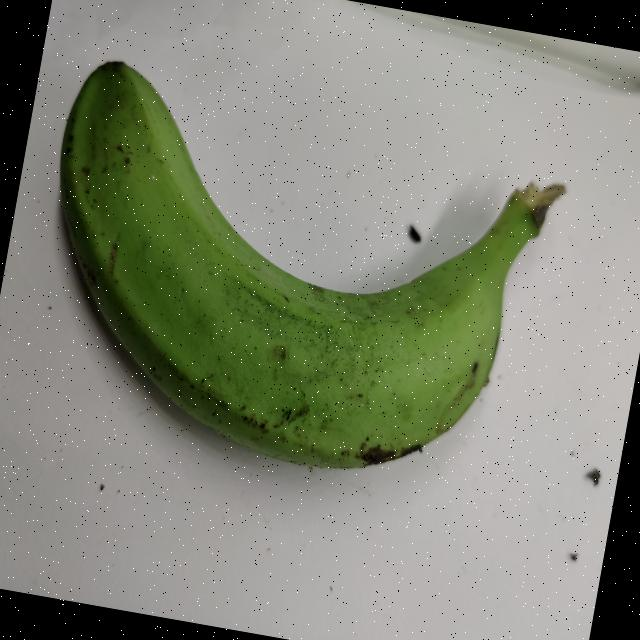Raw: (1, 21, 599, 544)
